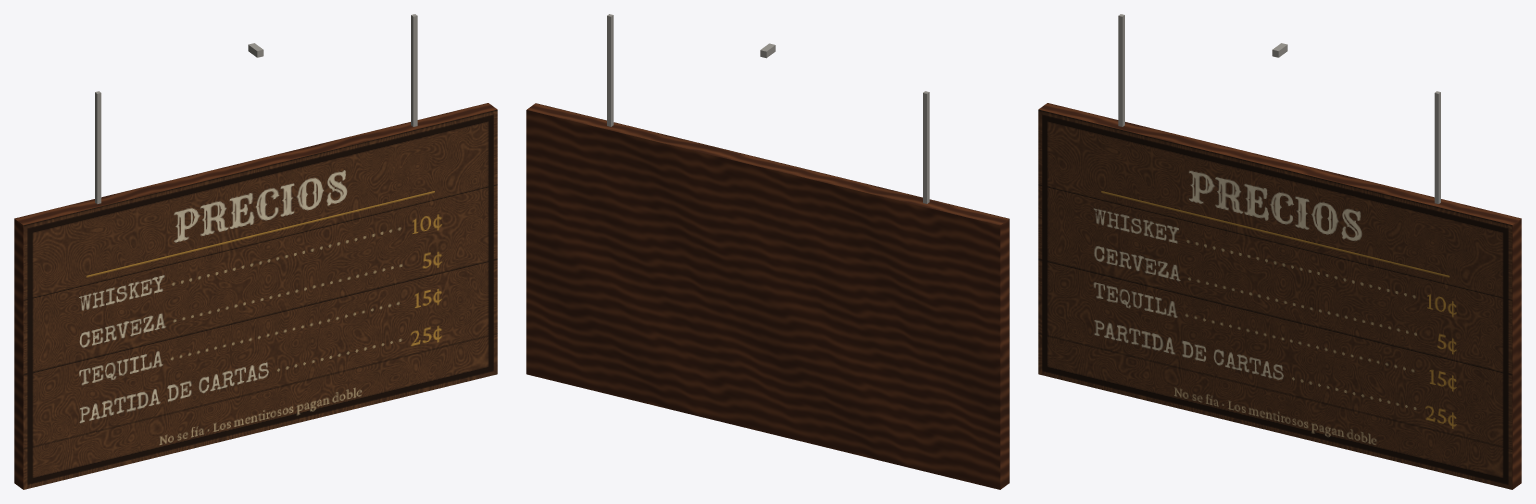
The model's file is Cuadro_Letrero_Precios.fbx.
The picture shows the model from 3 angles, left to right: view 1: azimuth 30°, elevation 25°; view 2: azimuth 150°, elevation 25°; view 3: azimuth 330°, elevation 25°; orthographic projection.
Visible parts, largest first — view 1: Cuadro_Letrero_Precios; view 2: Cuadro_Letrero_Precios; view 3: Cuadro_Letrero_Precios.
Part boxes in pixels (x1=…): Cuadro_Letrero_Precios: x1=14, y1=14, x2=497, y2=489; Cuadro_Letrero_Precios: x1=526, y1=14, x2=1009, y2=489; Cuadro_Letrero_Precios: x1=1038, y1=14, x2=1521, y2=489.
Bounding box in the file's own units: 0.9 × 0.692 × 0.0305.
3 materials, 2 textured.
